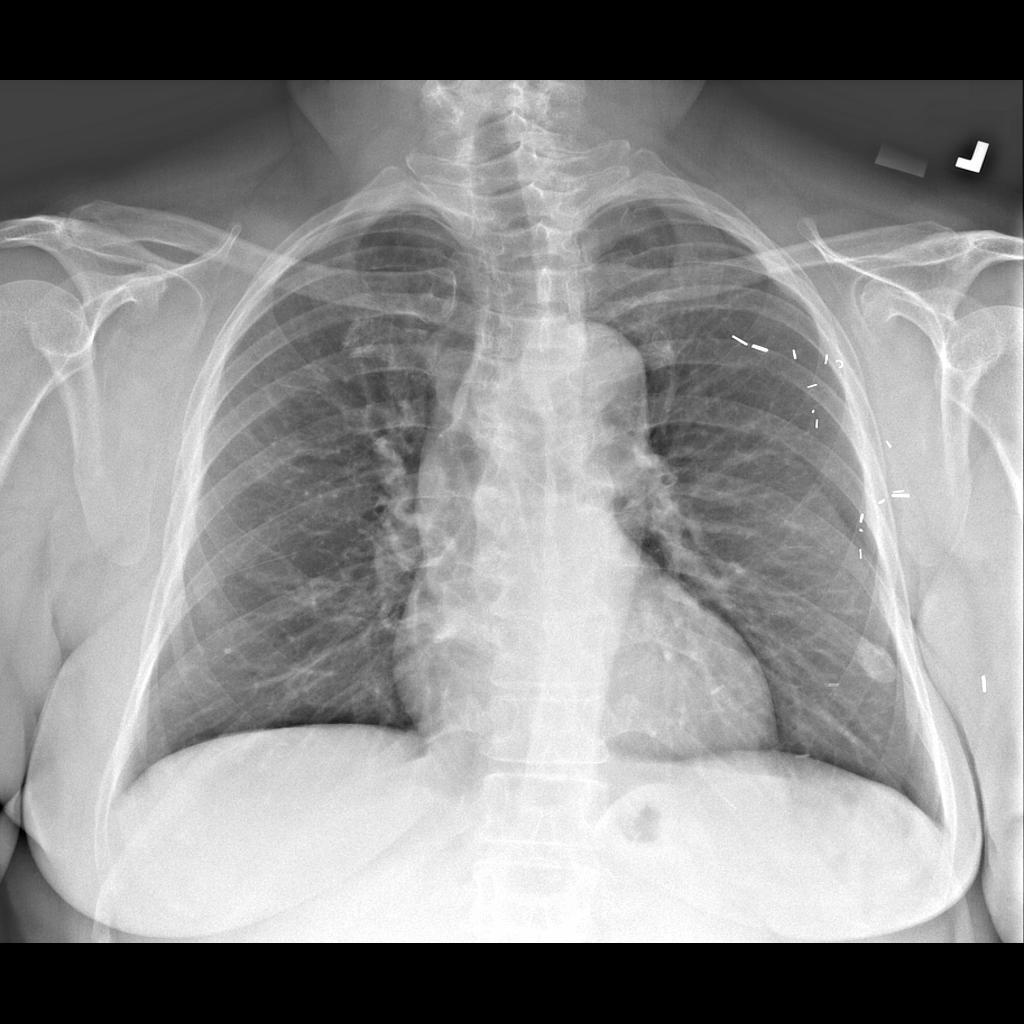Nodule: (856, 626, 905, 691)
